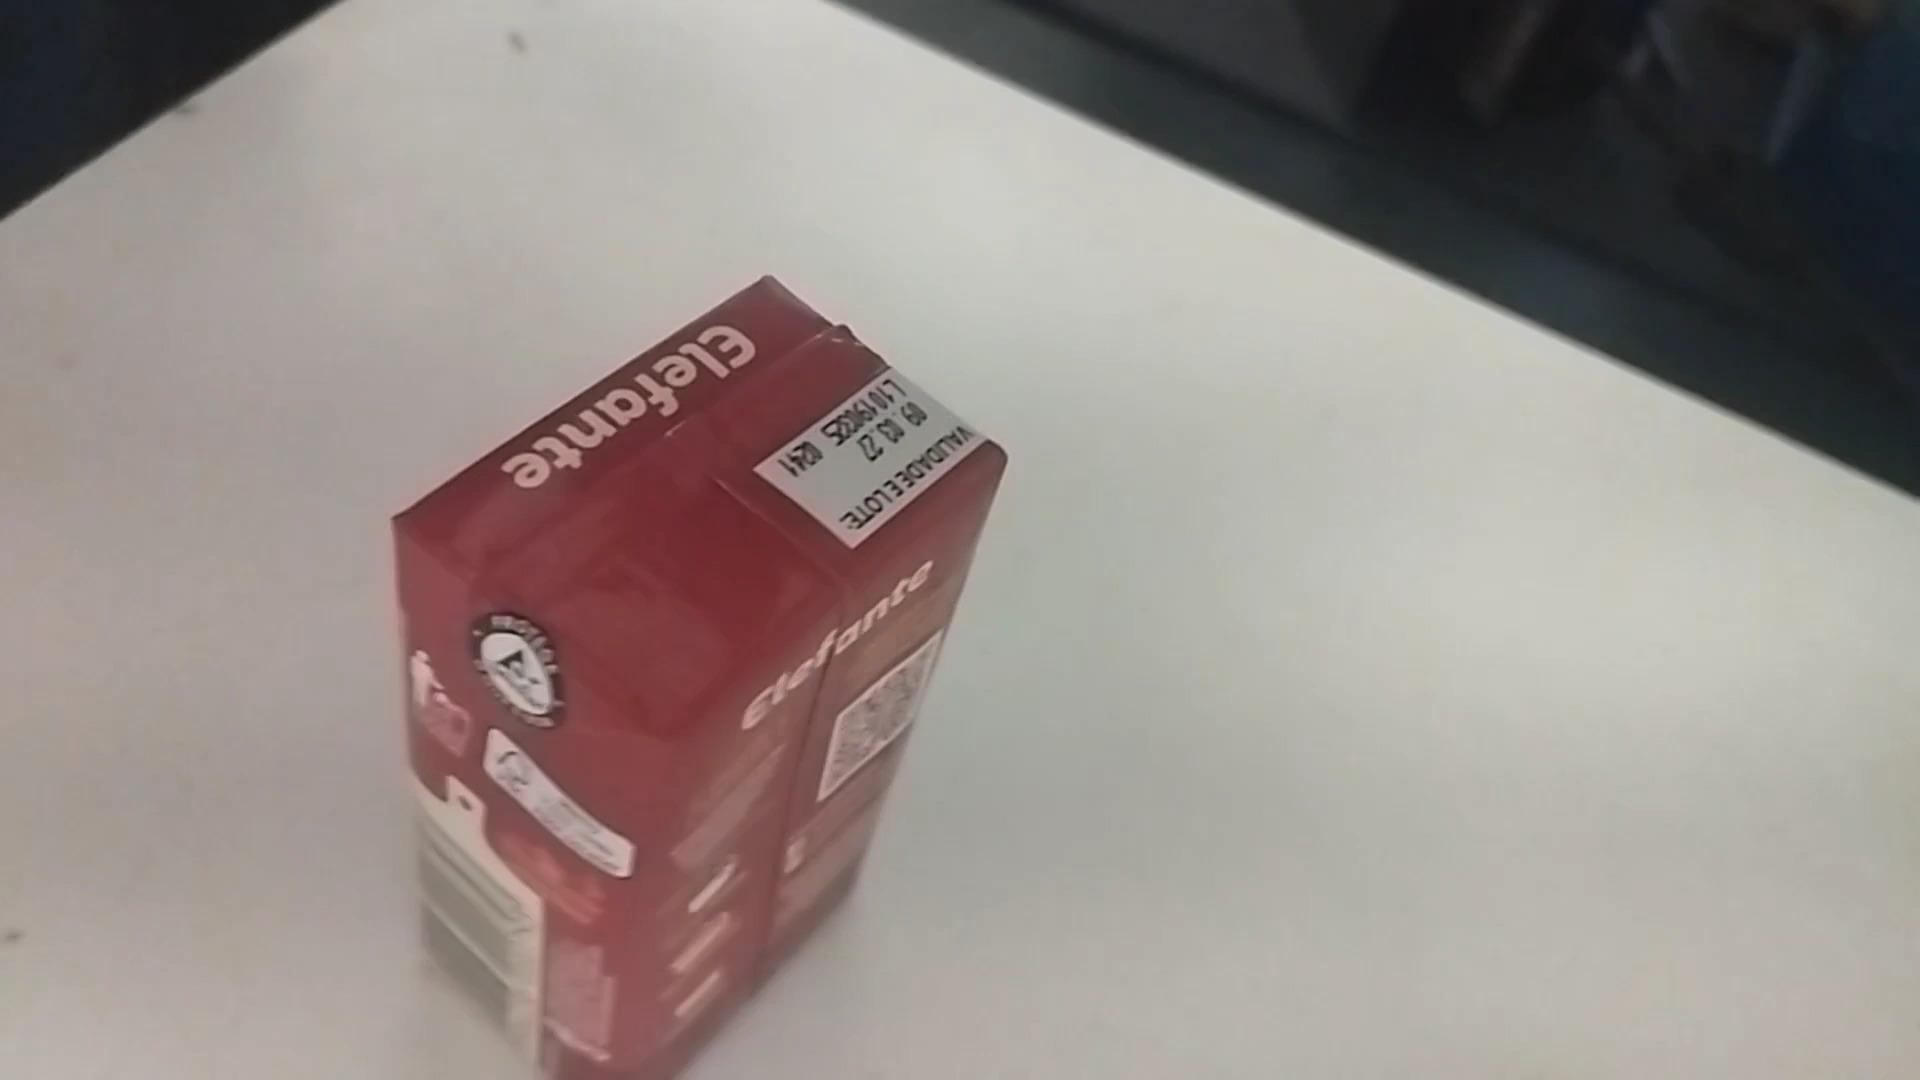tomate: (351, 235, 1059, 1073)
